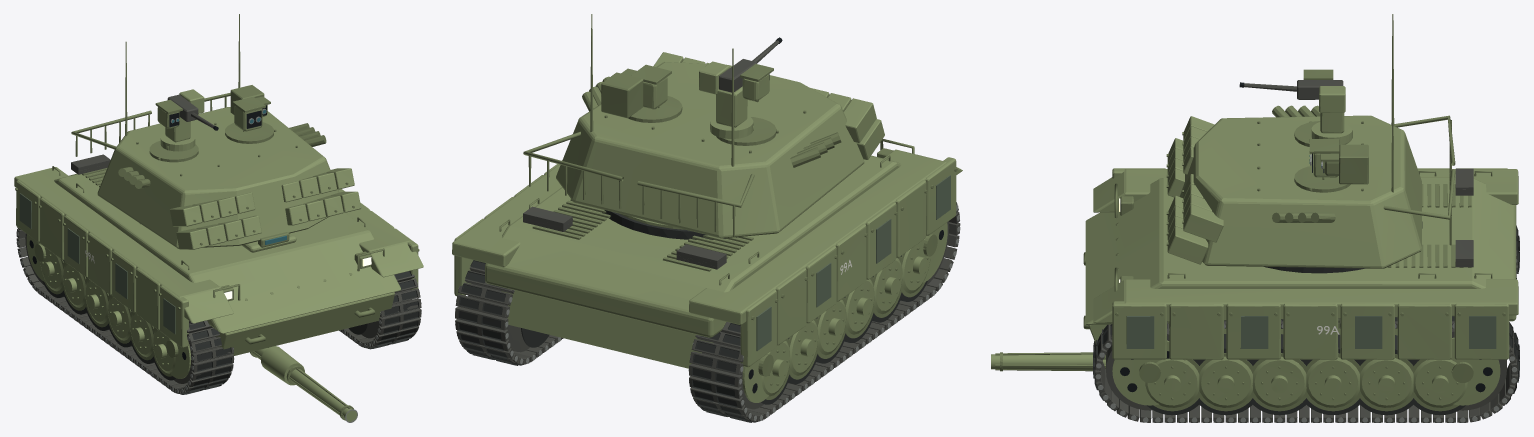
The model's file is china.glb.
3 views of the same model, side by side, from view 1: azimuth 30°, elevation 25°; view 2: azimuth 150°, elevation 25°; view 3: azimuth 270°, elevation 25° (orthographic). The views are drawn at different scales.
Visible parts, largest first — view 1: body_material_1, turret_material_2, tracks_material_1, tracks_material_3, turret_material_3, tracks_material_2, cannon_material_2, body_material_2, body_material_5, tracks_material_4, tracks_material_0, body_material_0 (+2 smaller); view 2: body_material_1, turret_material_2, tracks_material_1, turret_material_3, tracks_material_3, tracks_material_2, body_material_2, body_material_5, tracks_material_4, body_material_0, tracks_material_0, turret_material_1 (+1 smaller); view 3: body_material_1, turret_material_2, tracks_material_3, turret_material_3, tracks_material_1, body_material_5, tracks_material_4, tracks_material_2, body_material_2, cannon_material_2, tracks_material_0, body_material_0 (+2 smaller).
Boxes of the visible parts, bbox=[...] form: body_material_1: bbox=[14, 167, 423, 355]; turret_material_2: bbox=[97, 89, 361, 249]; tracks_material_1: bbox=[16, 227, 421, 393]; tracks_material_3: bbox=[26, 234, 191, 378]; turret_material_3: bbox=[71, 14, 354, 245]; tracks_material_2: bbox=[42, 260, 419, 394]; cannon_material_2: bbox=[252, 346, 356, 421]; body_material_2: bbox=[15, 166, 419, 344]; body_material_5: bbox=[19, 193, 175, 334]; tracks_material_4: bbox=[34, 243, 178, 376]; tracks_material_0: bbox=[16, 231, 421, 393]; body_material_0: bbox=[71, 154, 110, 174]; body_material_1: bbox=[452, 149, 962, 368]; turret_material_2: bbox=[556, 52, 884, 238]; tracks_material_1: bbox=[455, 202, 960, 421]; turret_material_3: bbox=[523, 14, 841, 236]; tracks_material_3: bbox=[742, 222, 947, 402]; tracks_material_2: bbox=[458, 255, 927, 422]; body_material_2: bbox=[499, 139, 957, 320]; body_material_5: bbox=[756, 175, 950, 350]; tracks_material_4: bbox=[758, 234, 937, 399]; body_material_0: bbox=[523, 206, 726, 269]; tracks_material_0: bbox=[455, 205, 960, 421]; turret_material_1: bbox=[602, 210, 736, 239]; body_material_1: bbox=[1085, 168, 1518, 359]; turret_material_2: bbox=[1167, 86, 1421, 268]; tracks_material_3: bbox=[1112, 337, 1500, 407]; turret_material_3: bbox=[1166, 14, 1455, 245]; tracks_material_1: bbox=[1095, 250, 1517, 422]; body_material_5: bbox=[1126, 316, 1496, 348]; tracks_material_4: bbox=[1139, 353, 1473, 411]; tracks_material_2: bbox=[1093, 225, 1519, 422]; body_material_2: bbox=[1083, 171, 1505, 329]; cannon_material_2: bbox=[991, 354, 1105, 370]; tracks_material_0: bbox=[1095, 259, 1517, 422]; body_material_0: bbox=[1455, 168, 1473, 267].
Bounding box in the file's own units: 3.82 × 4.27 × 6.12.
